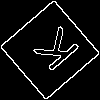K: (25, 25, 82, 80)
